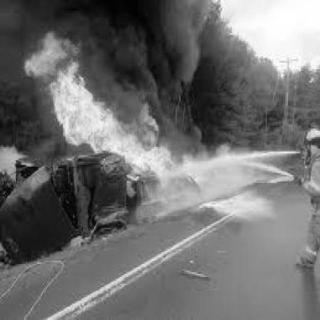Smoke: (6, 0, 222, 81)
